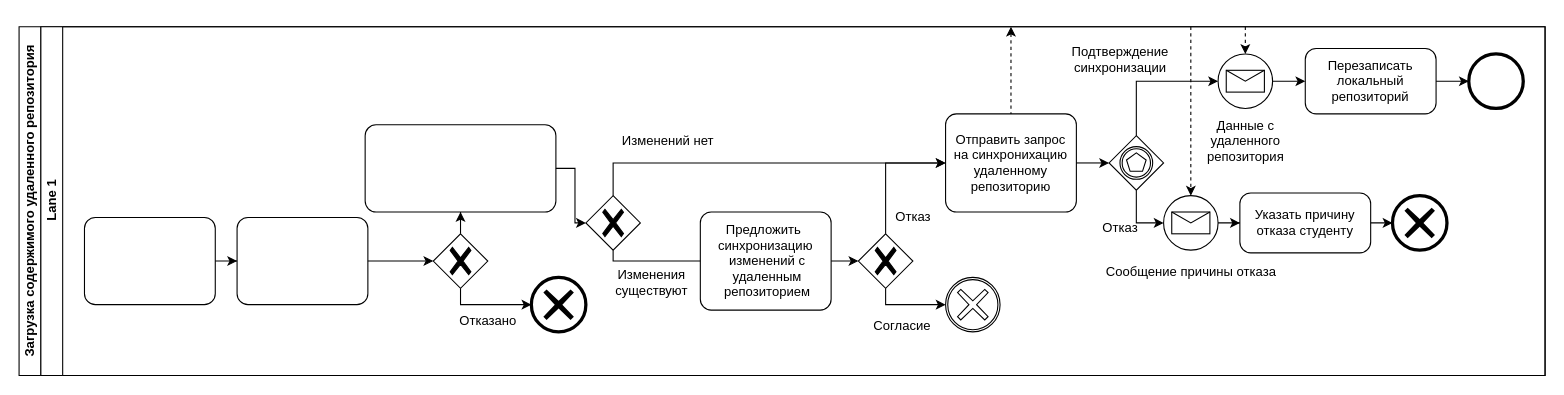
Some shapes in this 1564 by 395 pixel diagram are drawn without their labels. Here are the shapes that lost their labels. From the top down, the box of each, then its label:
(364, 124, 556, 212): Проверка существования изменений, не синхронизированных с удаленным репозиторием
(83, 216, 215, 305): Запрос серверу на синхронизацию
(236, 216, 368, 305): Проверка прав доступа
